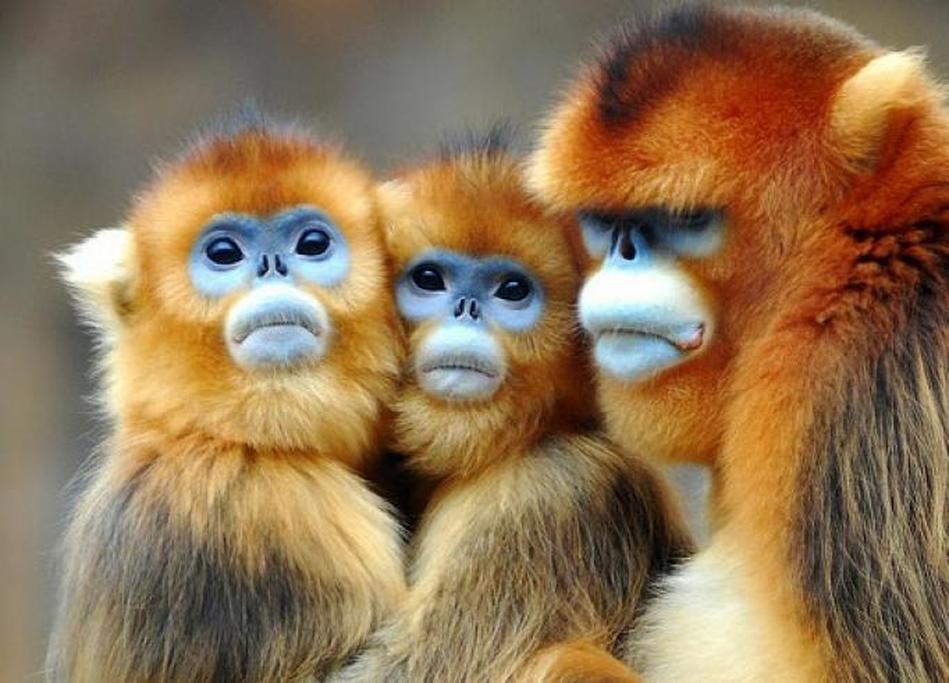GoldenSnub-Nosed: (575, 35, 947, 619), (97, 154, 382, 625), (378, 179, 589, 633)
